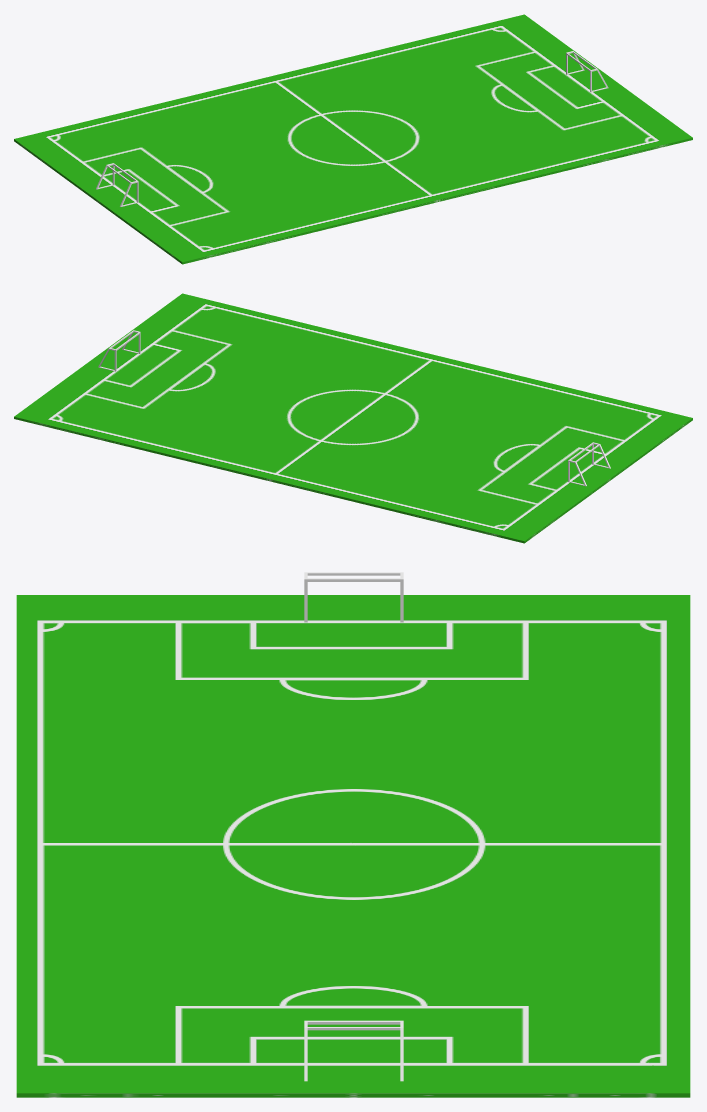
The model's file is Town_Bld-SoccerField.FBX.
3 views of the same model, one above another, from view 1: azimuth 30°, elevation 25°; view 2: azimuth 150°, elevation 25°; view 3: azimuth 270°, elevation 25° (orthographic). The views are drawn at different scales.
Parts seen in each view (by area): view 1: Town_Bld-SoccerField; view 2: Town_Bld-SoccerField; view 3: Town_Bld-SoccerField.
Part boxes in pixels (left/top/right/bottom): Town_Bld-SoccerField: left=14, top=14, right=692, bottom=264; Town_Bld-SoccerField: left=14, top=293, right=692, bottom=543; Town_Bld-SoccerField: left=16, top=572, right=690, bottom=1097.
Bounding box in the file's own units: 2184 × 97.07 × 1248.
